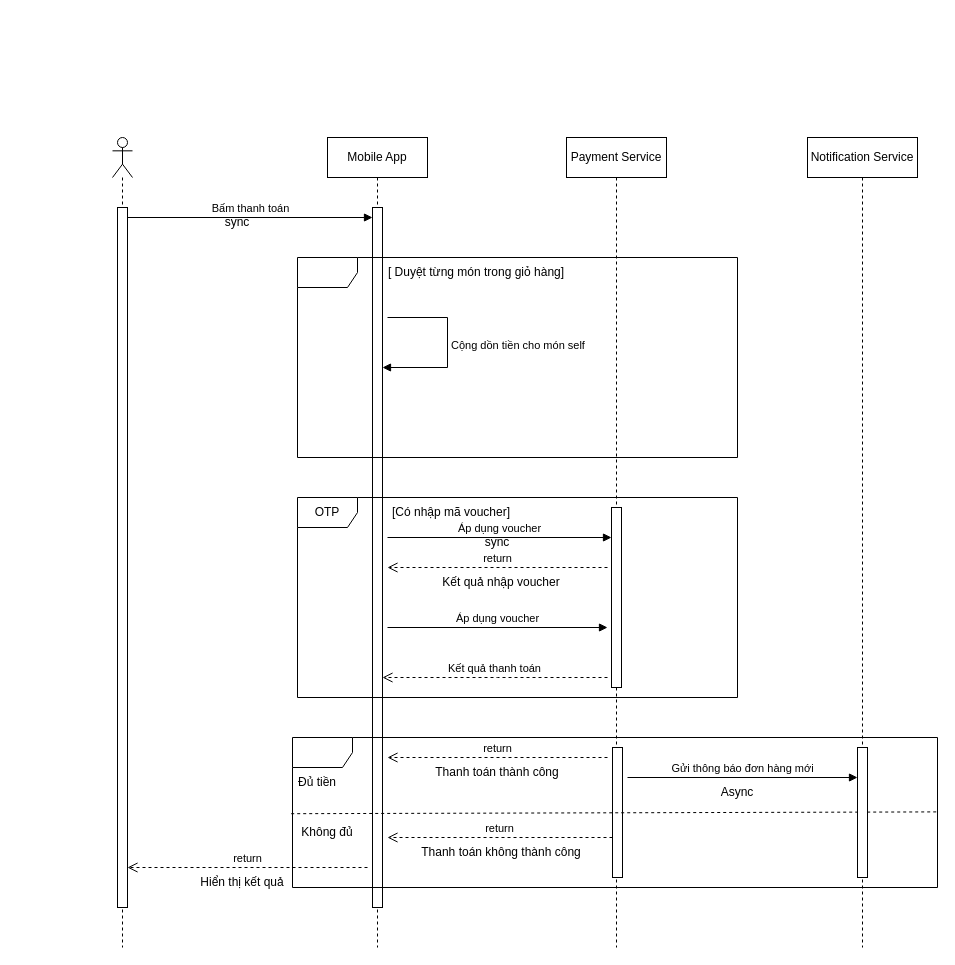
The diagram is 955 pixels wide and 965 high, and some of its shapes have lost their labels. Here are the shapes that lost their labels. From the top down, the box of each, then its label:
(296, 256, 738, 458): loop
(292, 736, 938, 888): alt
